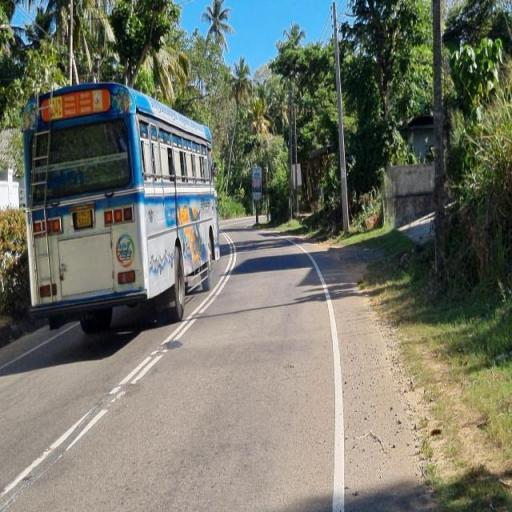double_white_line: (109, 226, 237, 402)
